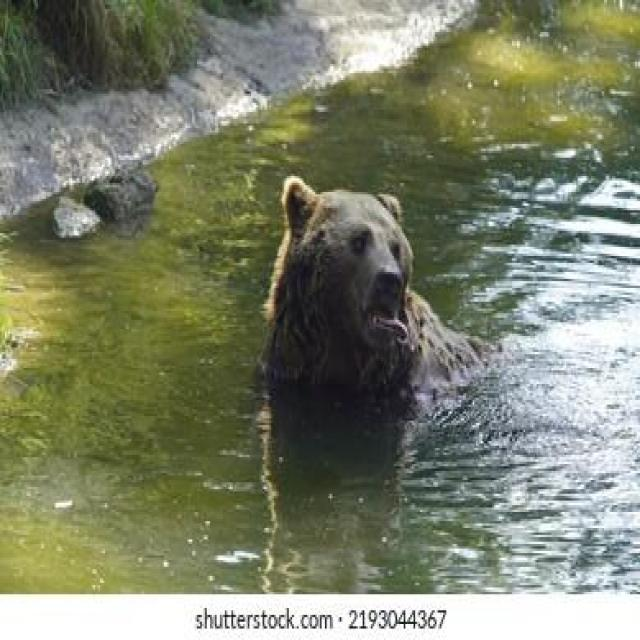Bear: (261, 176, 501, 414)
